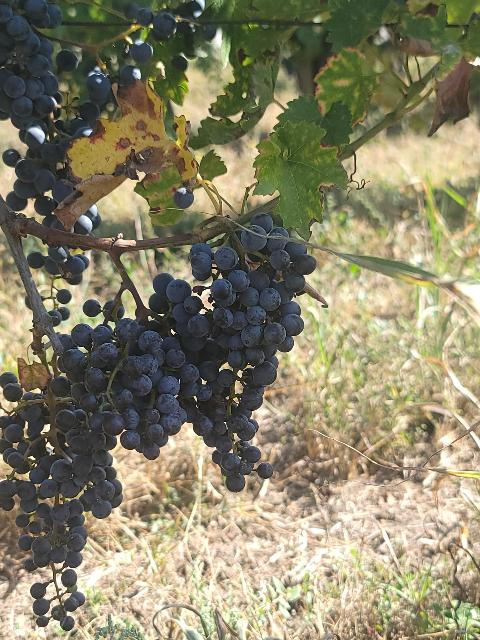grapes: (151, 214, 316, 491), (0, 372, 115, 631), (60, 318, 185, 459), (0, 0, 59, 149), (2, 126, 75, 230), (28, 245, 89, 284), (70, 205, 101, 235)
